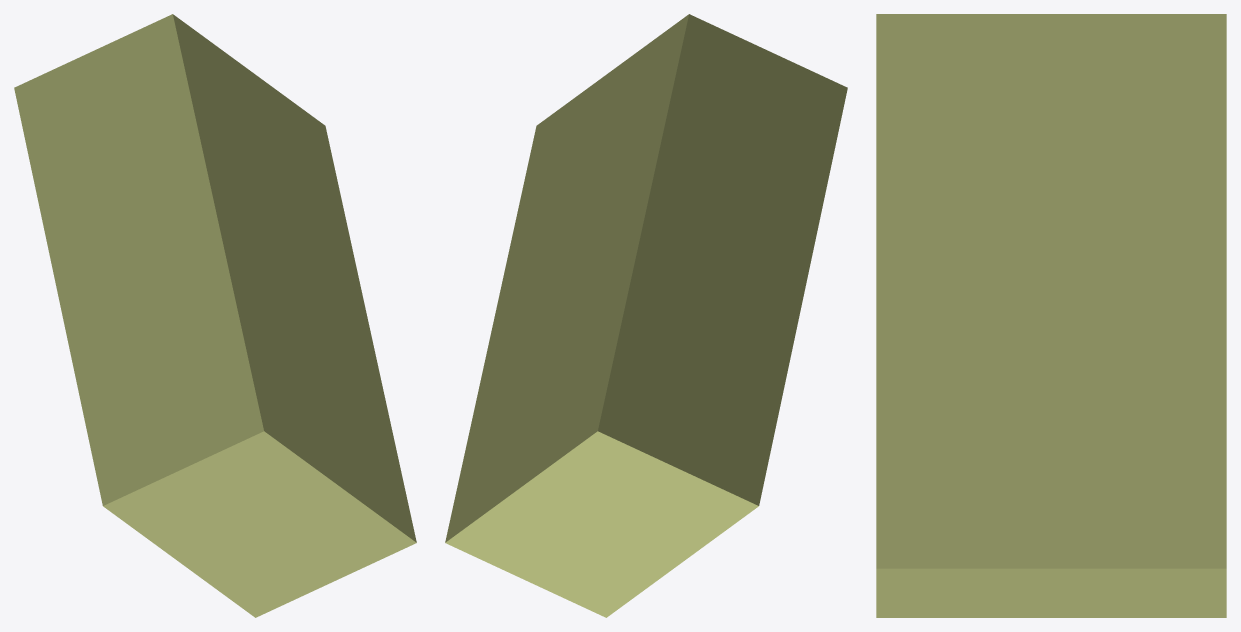
The picture shows the model from 3 angles, left to right: view 1: azimuth 30°, elevation 25°; view 2: azimuth 150°, elevation 25°; view 3: azimuth 270°, elevation 25°; orthographic projection. The views are drawn at different scales.
Visible parts, largest first — view 1: 0_0_1_3_2_1_1_2_0_3; view 2: 0_0_1_3_2_1_1_2_0_3; view 3: 0_0_1_3_2_1_1_2_0_3.
Boxes of the visible parts, bbox=[...] form: 0_0_1_3_2_1_1_2_0_3: bbox=[14, 14, 416, 617]; 0_0_1_3_2_1_1_2_0_3: bbox=[445, 14, 847, 617]; 0_0_1_3_2_1_1_2_0_3: bbox=[876, 14, 1226, 617].
Size of the model in its own units: 8.51 by 15.45 by 9.
